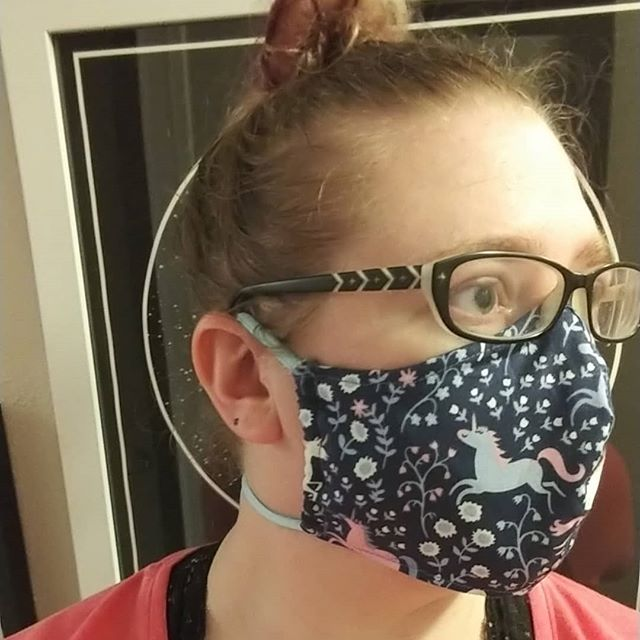homemade: (243, 317, 637, 594)
